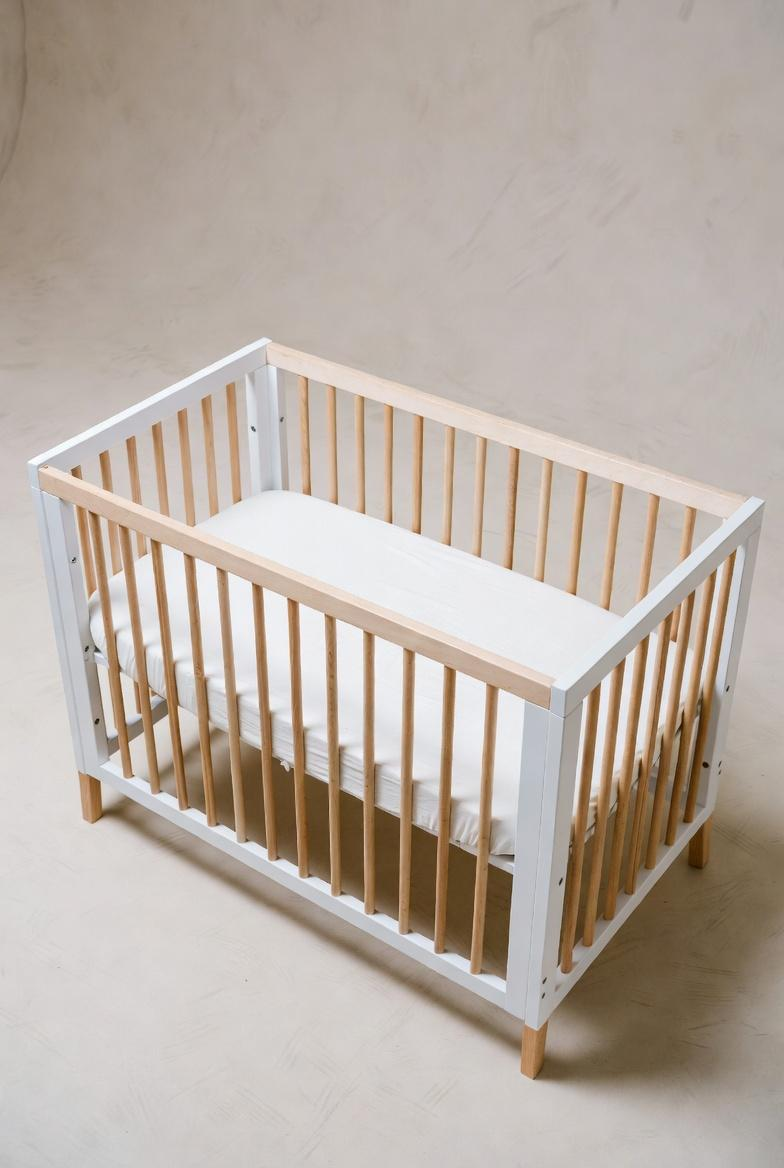crib: (30, 340, 763, 1076)
